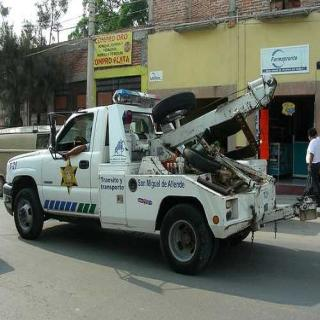Towing_truck: (2, 73, 316, 274)
